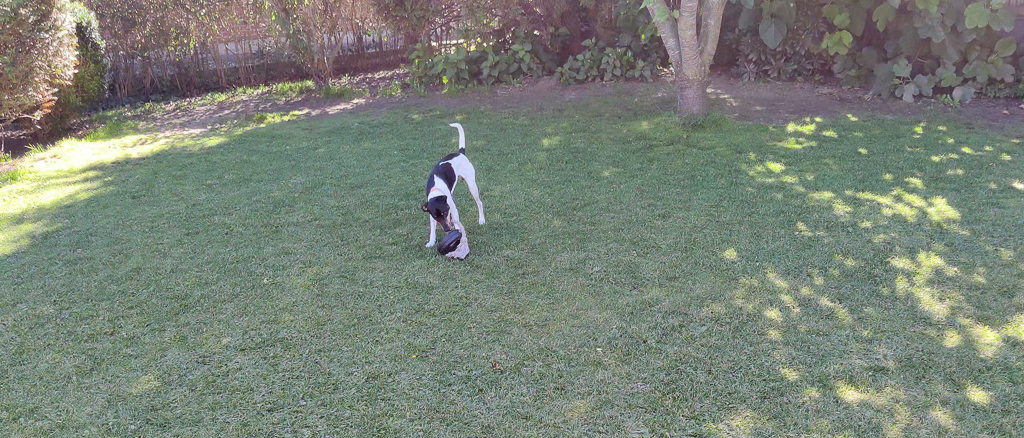Dog: (408, 116, 498, 258)
